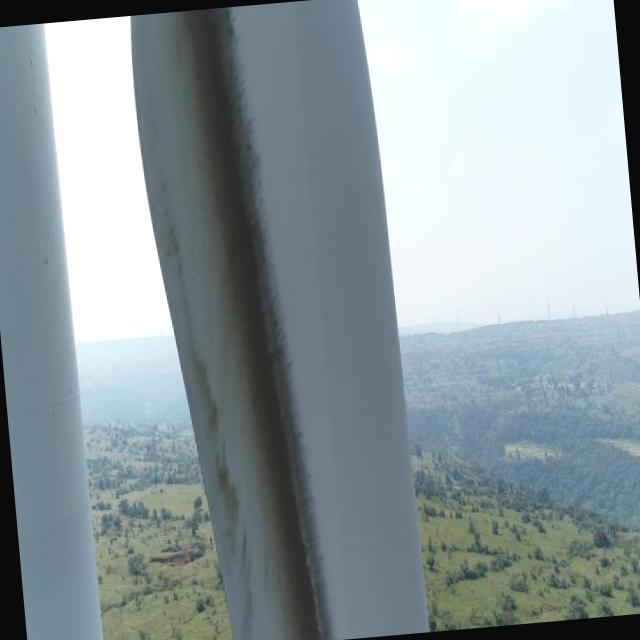Dirt: (147, 2, 344, 639)
